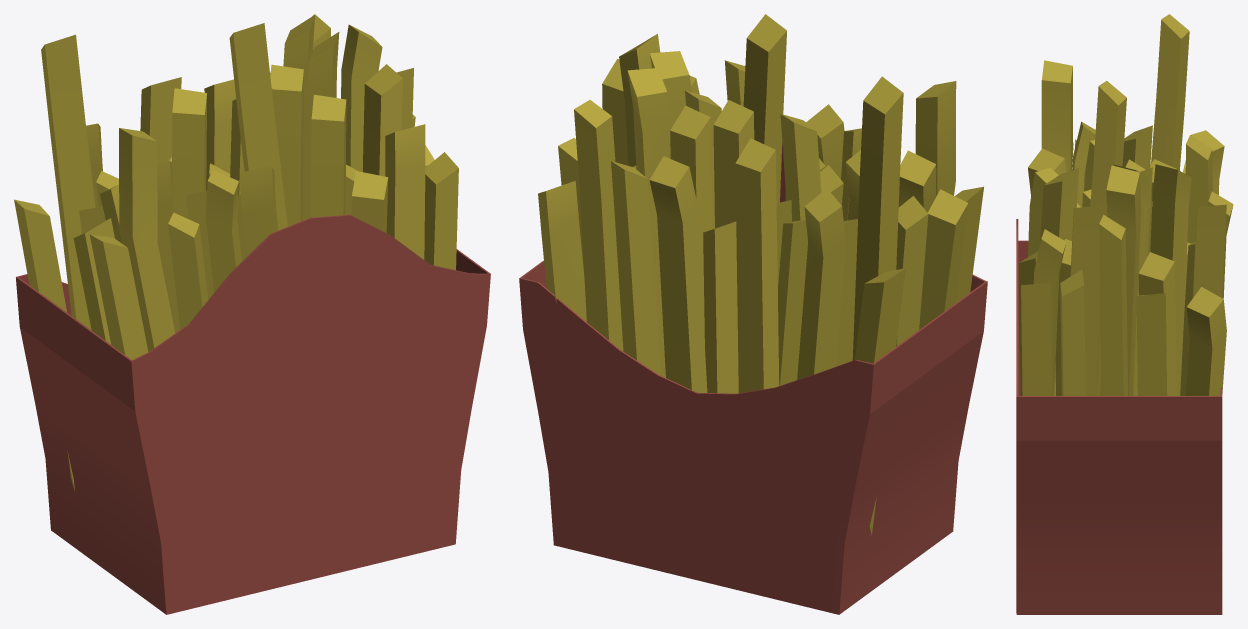
Rendered from fries.fbx.
The picture shows the model from 3 angles, left to right: view 1: azimuth 30°, elevation 25°; view 2: azimuth 150°, elevation 25°; view 3: azimuth 270°, elevation 25°; orthographic projection. The views are drawn at different scales.
Parts seen in each view (by area): view 1: pPlane1, pCube42; view 2: pCube42, pPlane1; view 3: pCube42, pPlane1.
Boxes of the visible parts, <box> form: pPlane1: <box>16,214,490,614</box>; pCube42: <box>14,14,458,491</box>; pCube42: <box>538,14,983,535</box>; pPlane1: <box>519,143,987,614</box>; pCube42: <box>1018,14,1233,395</box>; pPlane1: <box>1016,219,1222,614</box>.
Size of the model in its own units: 1.05 by 1.41 by 0.5931.
